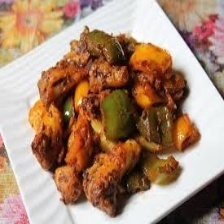sabzi: (24, 19, 206, 223)
